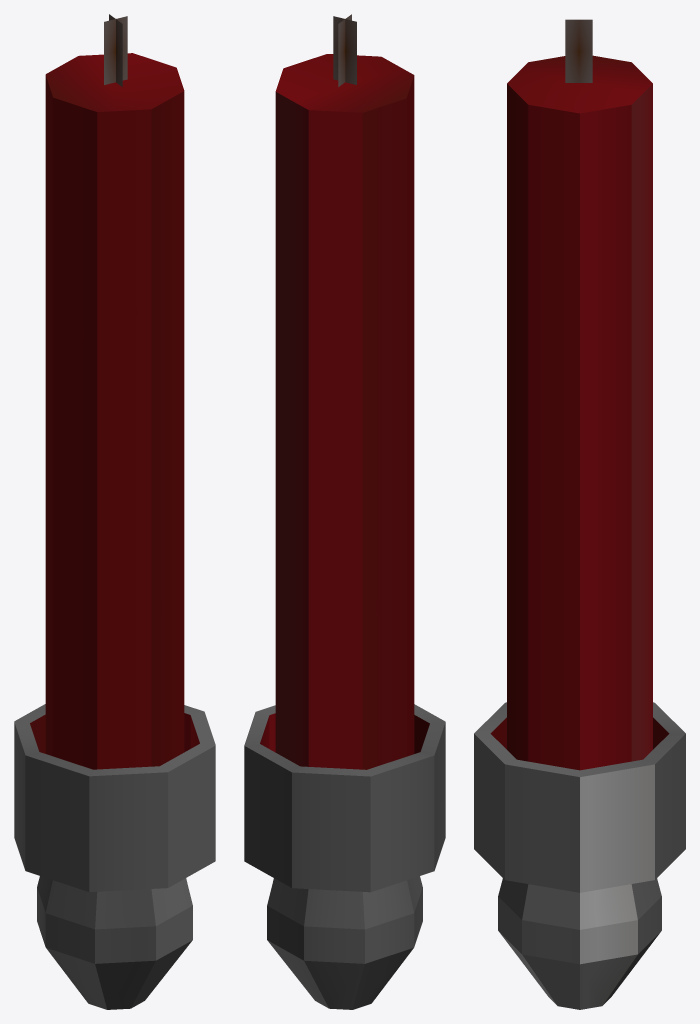
The model's file is candle_336x09.obj.
The picture shows the model from 3 angles, left to right: view 1: azimuth 30°, elevation 25°; view 2: azimuth 150°, elevation 25°; view 3: azimuth 270°, elevation 25°; orthographic projection.
Visible parts, largest first — view 1: candle_336x09; view 2: candle_336x09; view 3: candle_336x09.
Part boxes in pixels (x1,y1,x2,y2): candle_336x09: [14, 14, 215, 1009]; candle_336x09: [244, 14, 445, 1009]; candle_336x09: [474, 19, 685, 1009].
Size of the model in its own units: 0.2129 by 1.11 by 0.2184.
